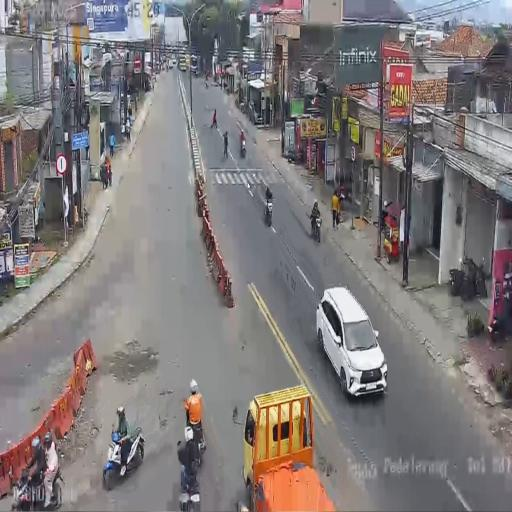car: (318, 285, 387, 396), (168, 55, 176, 69), (180, 58, 186, 71), (185, 55, 190, 70)
motorcycle: (12, 456, 61, 511), (489, 288, 512, 341), (310, 210, 321, 242), (264, 193, 274, 227), (239, 135, 246, 158), (240, 100, 245, 115), (204, 77, 209, 88), (166, 61, 168, 72)
truck: (190, 54, 199, 75)
